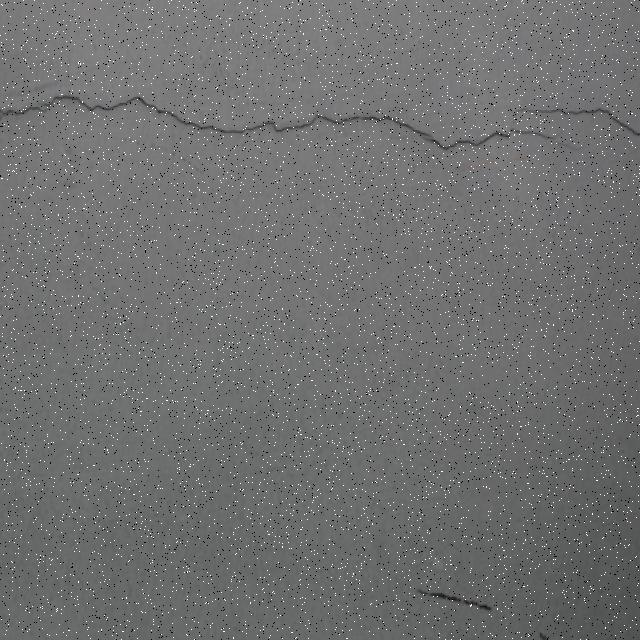minor crack: (5, 420, 639, 640)
moderate crack: (4, 80, 64, 105)
severe crack: (8, 98, 640, 150)
